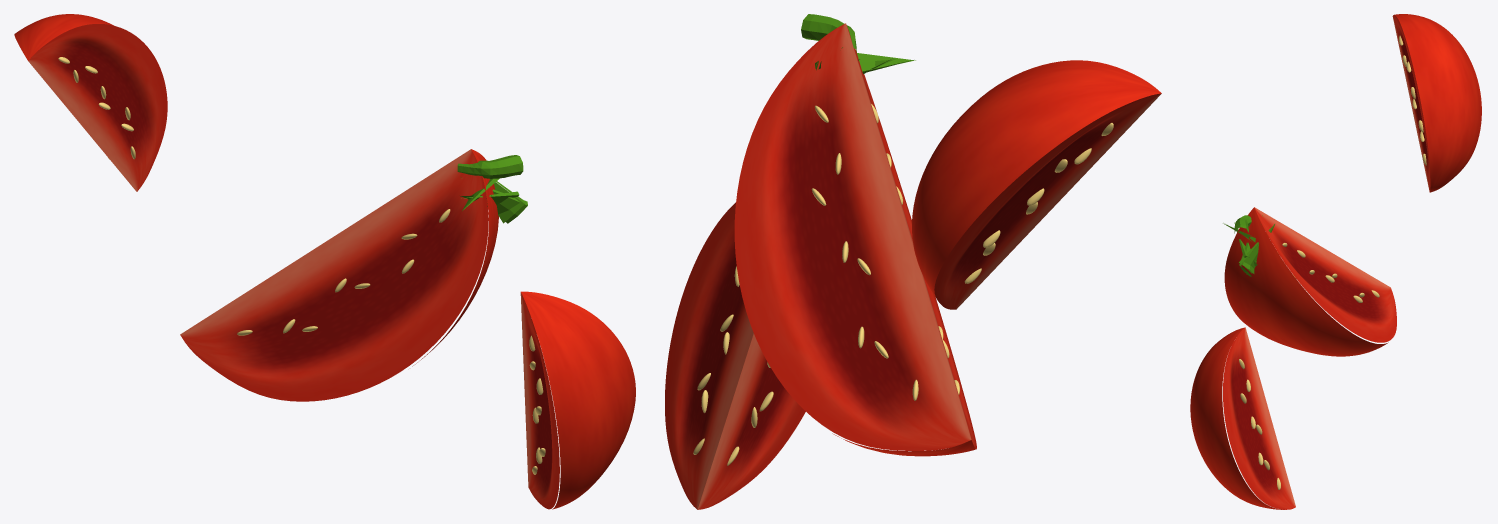
Rendered from tomato-slices.glb.
3 renders of one model, left to right at view 1: azimuth 30°, elevation 25°; view 2: azimuth 150°, elevation 25°; view 3: azimuth 270°, elevation 25°, orthographic. The views are drawn at different scales.
Parts seen in each view (by area): view 1: tomato-wedges-flesh, tomato-wedges-skin, tomato-calyx-stem, tomato-seeds; view 2: tomato-wedges-flesh, tomato-wedges-skin, tomato-seeds, tomato-calyx-stem; view 3: tomato-wedges-skin, tomato-wedges-flesh, tomato-seeds, tomato-calyx-stem.
Part boxes in pixels (x1=…): tomato-wedges-flesh: x1=28, y1=24, x2=559, y2=509; tomato-wedges-skin: x1=14, y1=14, x2=635, y2=509; tomato-calyx-stem: x1=457, y1=155, x2=527, y2=223; tomato-seeds: x1=58, y1=57, x2=545, y2=474; tomato-wedges-flesh: x1=665, y1=23, x2=1161, y2=509; tomato-wedges-skin: x1=832, y1=60, x2=1161, y2=456; tomato-seeds: x1=693, y1=104, x2=1113, y2=465; tomato-calyx-stem: x1=801, y1=14, x2=915, y2=73; tomato-wedges-skin: x1=1190, y1=14, x2=1481, y2=509; tomato-wedges-flesh: x1=1223, y1=15, x2=1430, y2=509; tomato-seeds: x1=1239, y1=35, x2=1426, y2=489; tomato-calyx-stem: x1=1223, y1=215, x2=1274, y2=276.
Bounding box in the file's own units: 0.1098 × 0.1062 × 0.0794.
5 materials, 2 textured.
